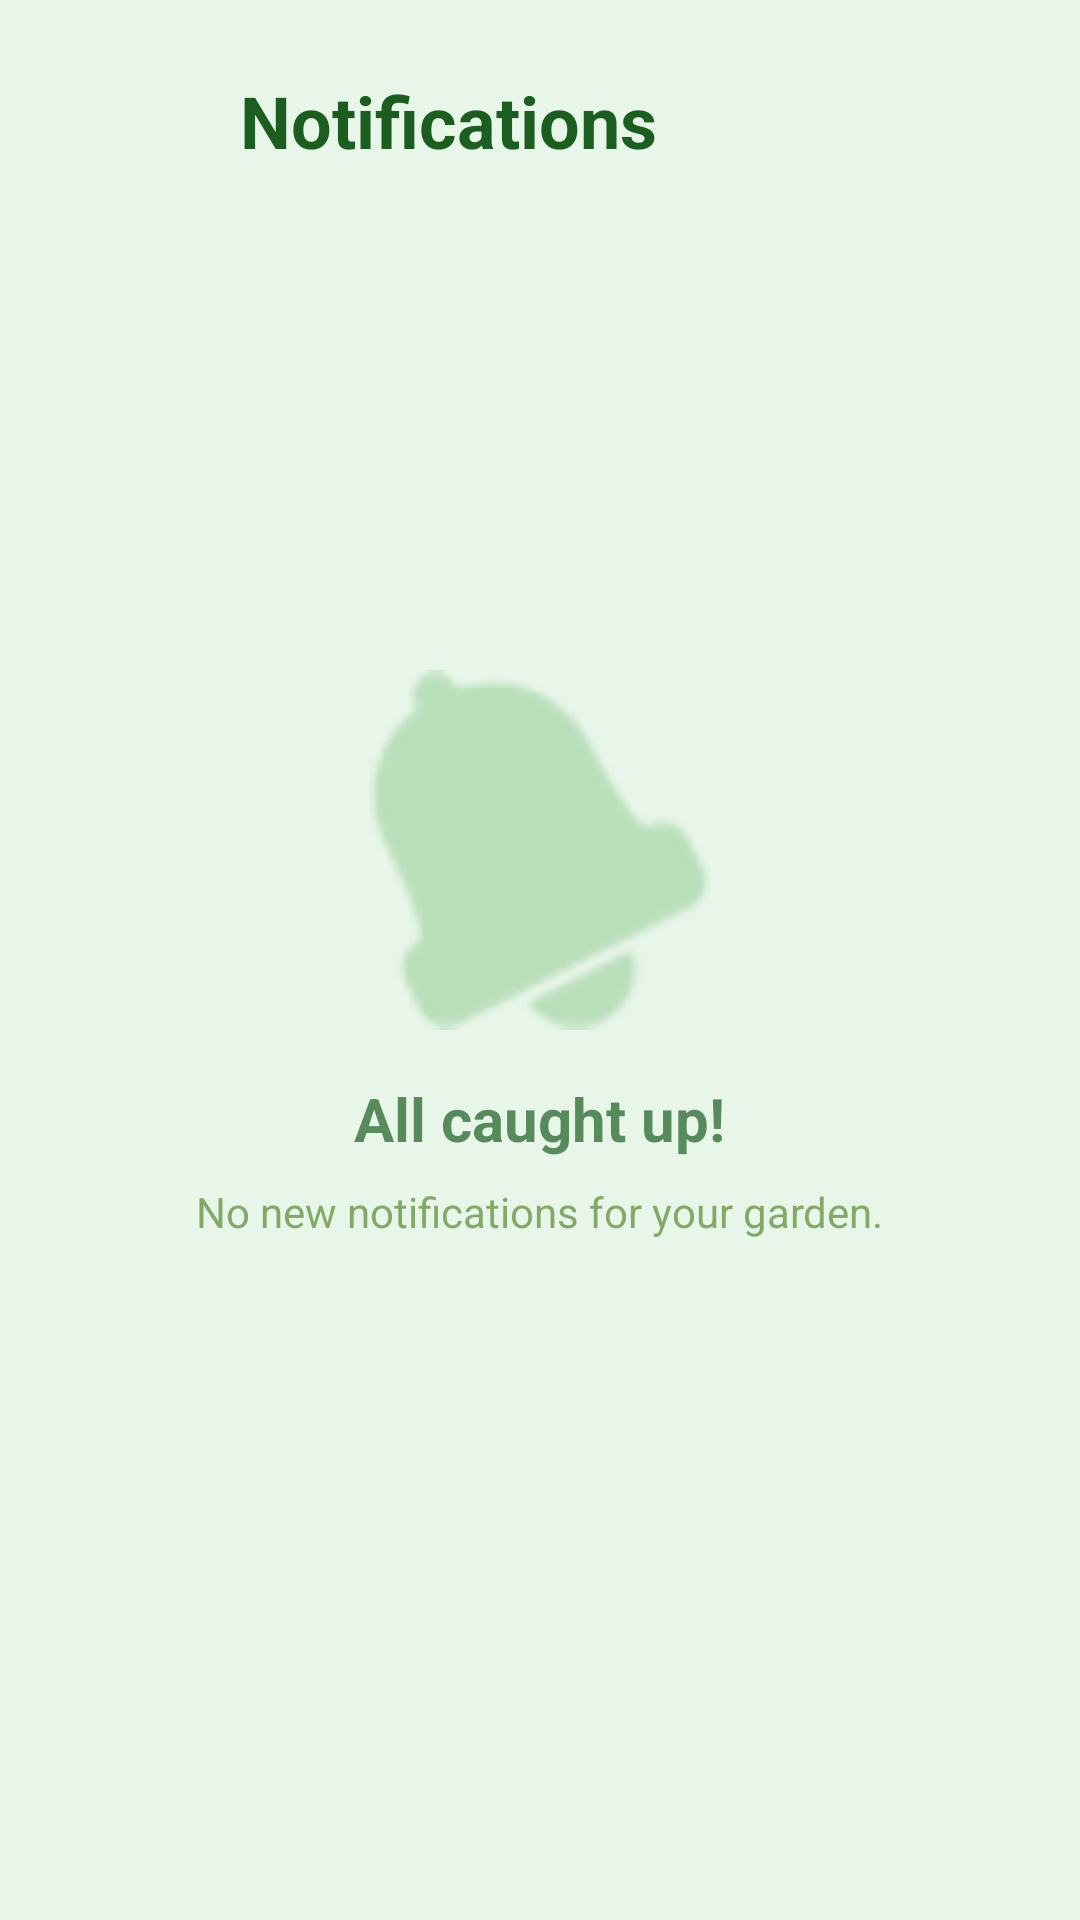

Point at icon controls on the screen. Image size 1080×1920, points as (x=x, y=y).
popup reminder: (x=540, y=850)
